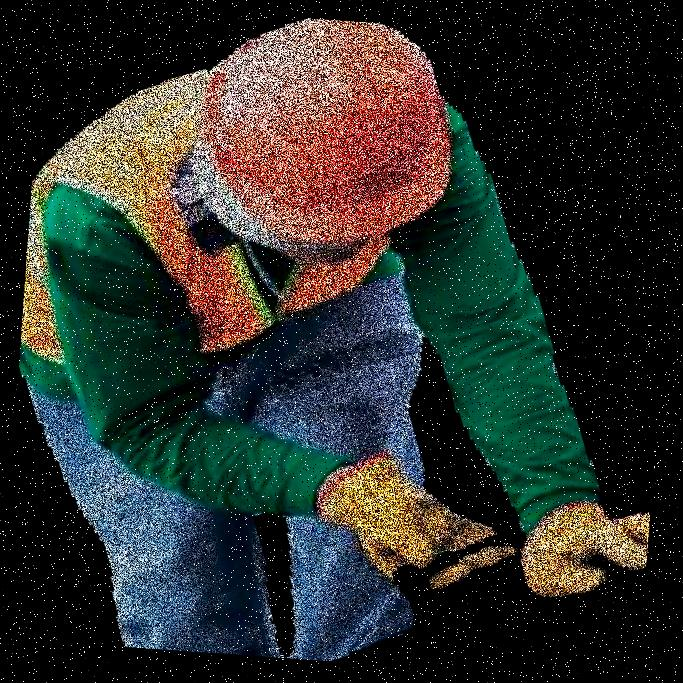Pessoa: (50, 0, 428, 682)
